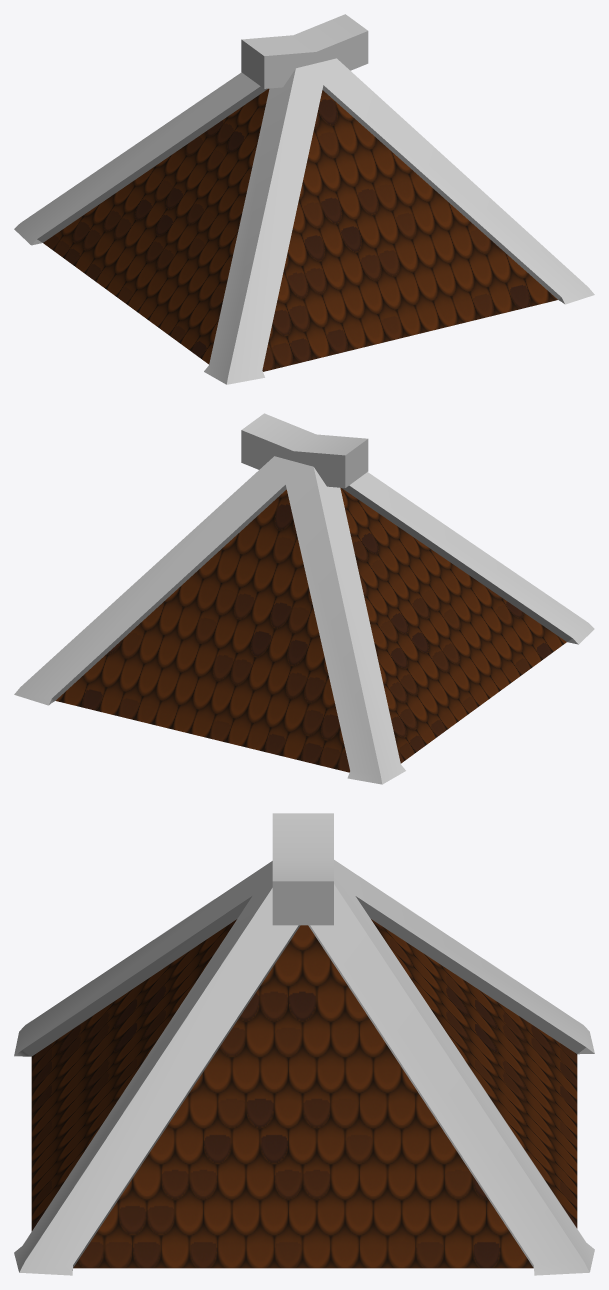
Rendered from Roof_Type1.fbx.
3 views of the same model, one above another, from view 1: azimuth 30°, elevation 25°; view 2: azimuth 150°, elevation 25°; view 3: azimuth 270°, elevation 25° (orthographic). The views are drawn at different scales.
Visible parts, largest first — view 1: Roof_Type1; view 2: Roof_Type1; view 3: Roof_Type1.
Part boxes in pixels (x1=…): Roof_Type1: x1=14, y1=14, x2=594, y2=384; Roof_Type1: x1=14, y1=413, x2=594, y2=784; Roof_Type1: x1=14, y1=813, x2=594, y2=1275.
Size of the model in its own units: 532 by 309 by 532.
